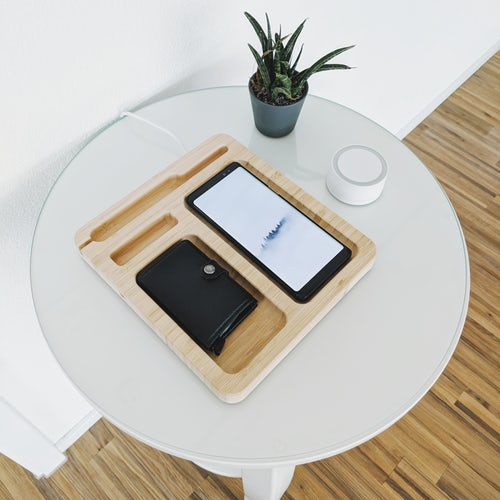phone: (188, 163, 351, 301)
